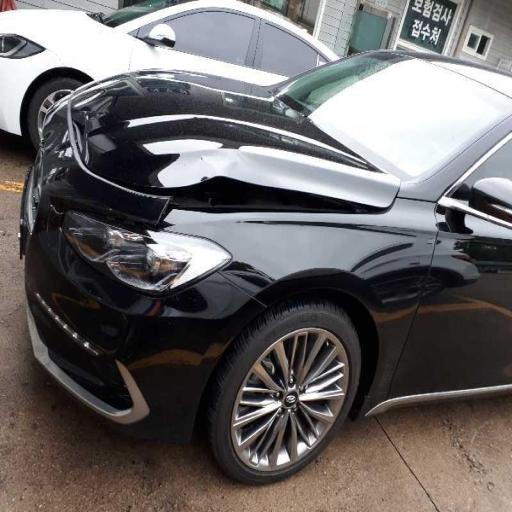dent: (88, 67, 328, 267)
